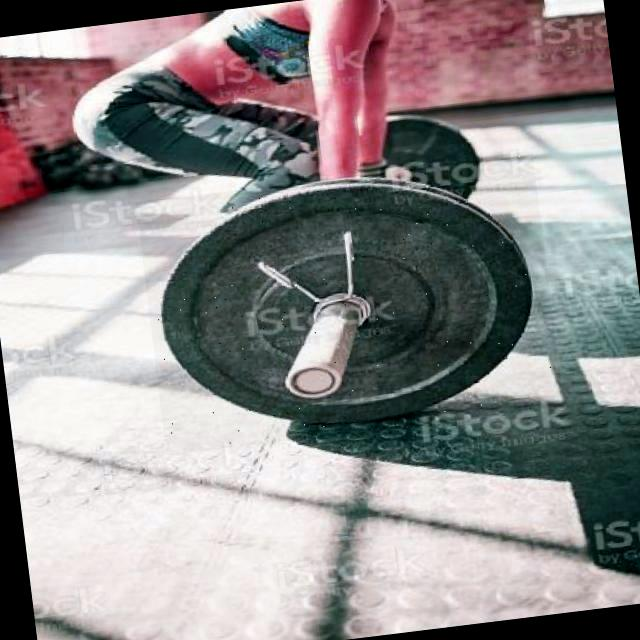barbell: (136, 153, 564, 455)
